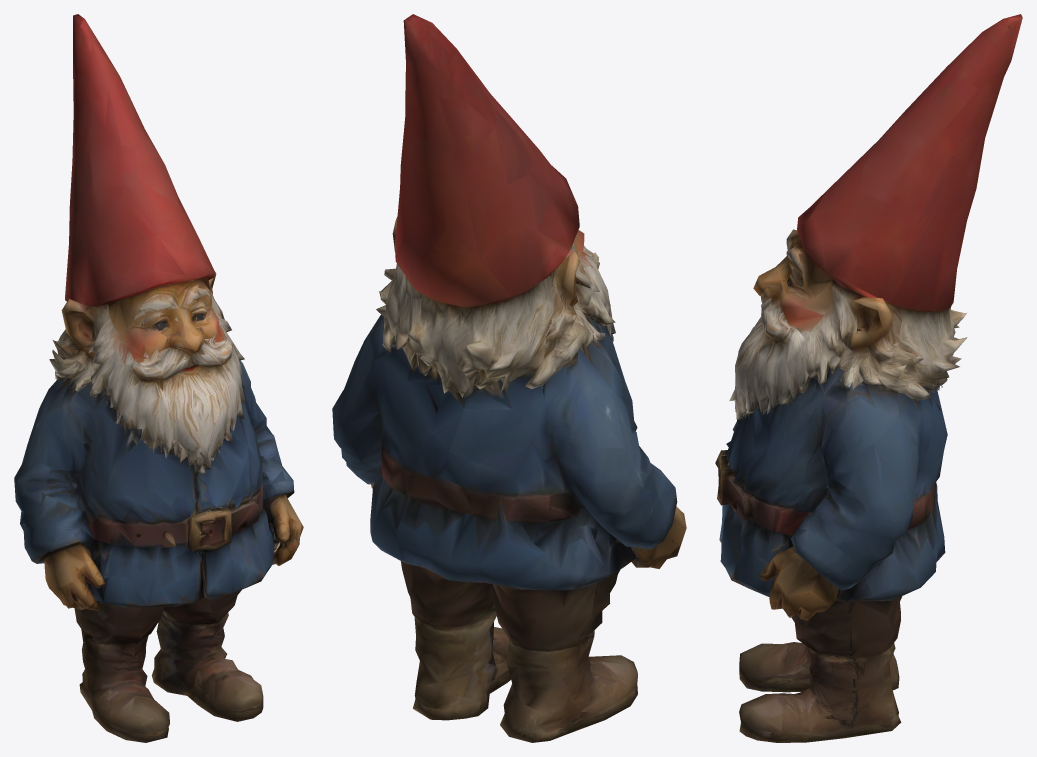
File: garden-gnome.glb
3 views of the same model, side by side, from view 1: azimuth 30°, elevation 25°; view 2: azimuth 150°, elevation 25°; view 3: azimuth 270°, elevation 25° (orthographic). The views are drawn at different scales.
Visible parts, largest first — view 1: GardenGnome; view 2: GardenGnome; view 3: GardenGnome.
Boxes of the visible parts, x1,y1,x2,y2 form: GardenGnome: [14, 14, 303, 742]; GardenGnome: [332, 14, 686, 742]; GardenGnome: [715, 14, 1022, 742].
Size of the model in its own units: 0.2147 by 0.5 by 0.2014.
1 material, 1 textured.
